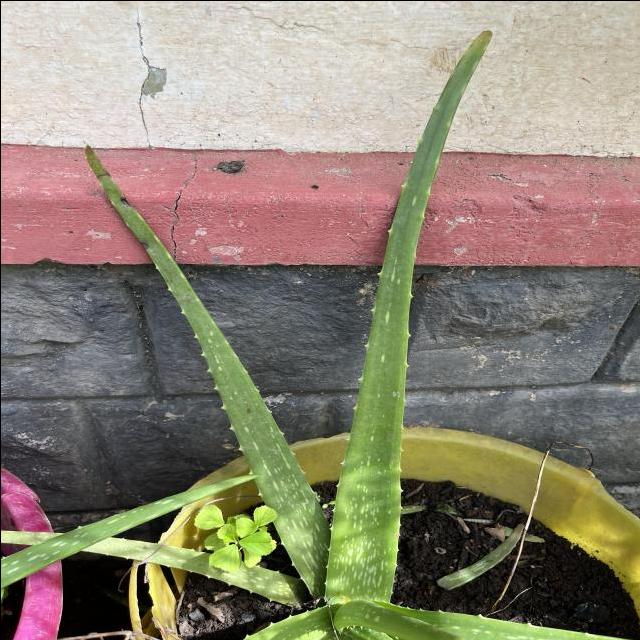Aloe vera: (320, 27, 499, 614)
